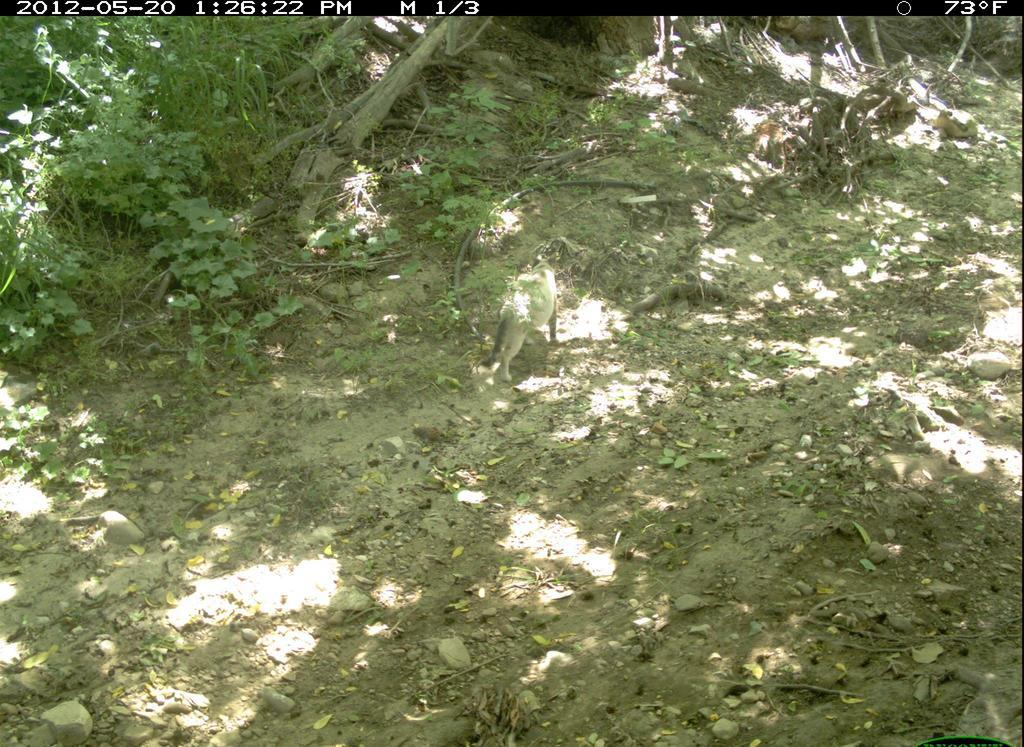cat: (468, 244, 571, 390)
